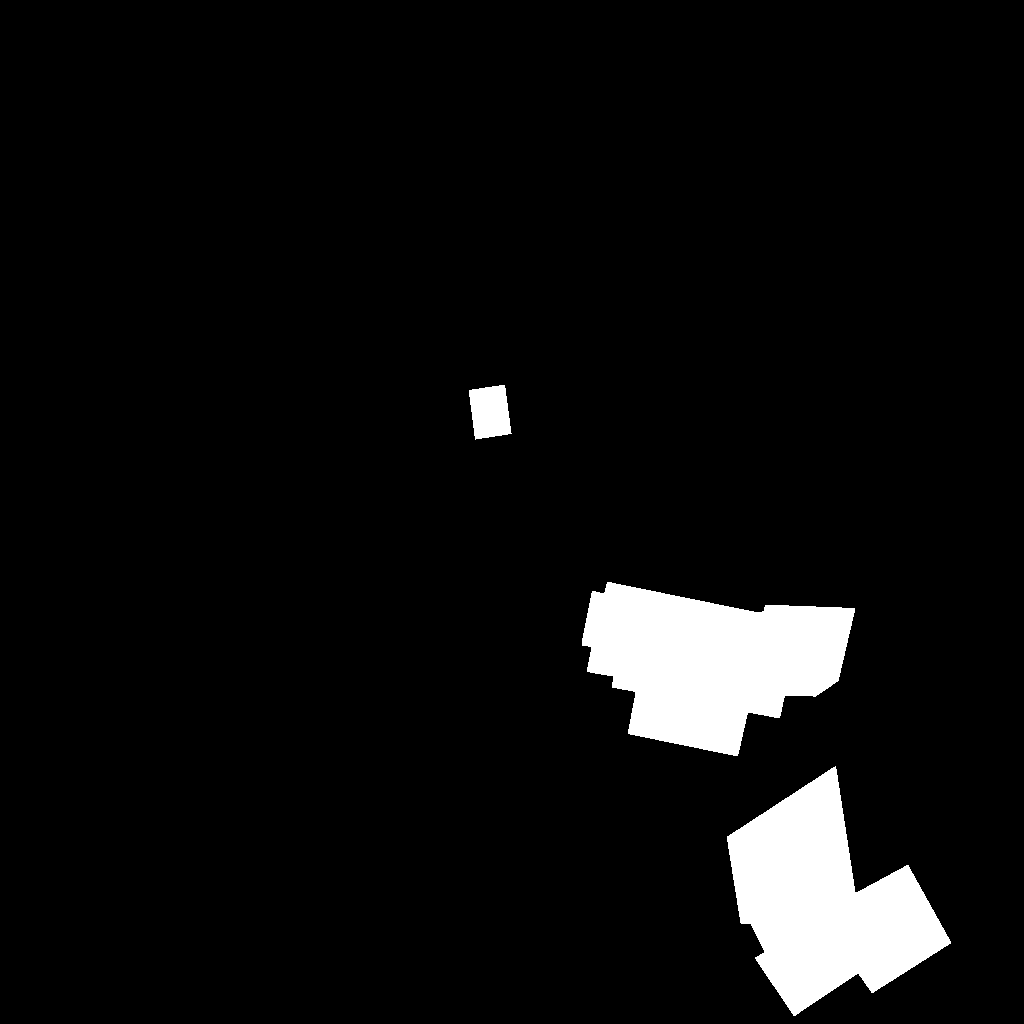building: (727, 766, 952, 1017), (582, 582, 856, 757), (469, 385, 512, 440)
